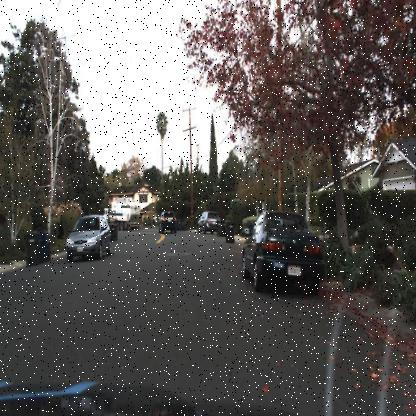car: (241, 210, 327, 298), (66, 214, 112, 262), (196, 206, 222, 232), (195, 209, 220, 234), (157, 209, 176, 233)
truck: (102, 194, 142, 230), (102, 196, 140, 232)
